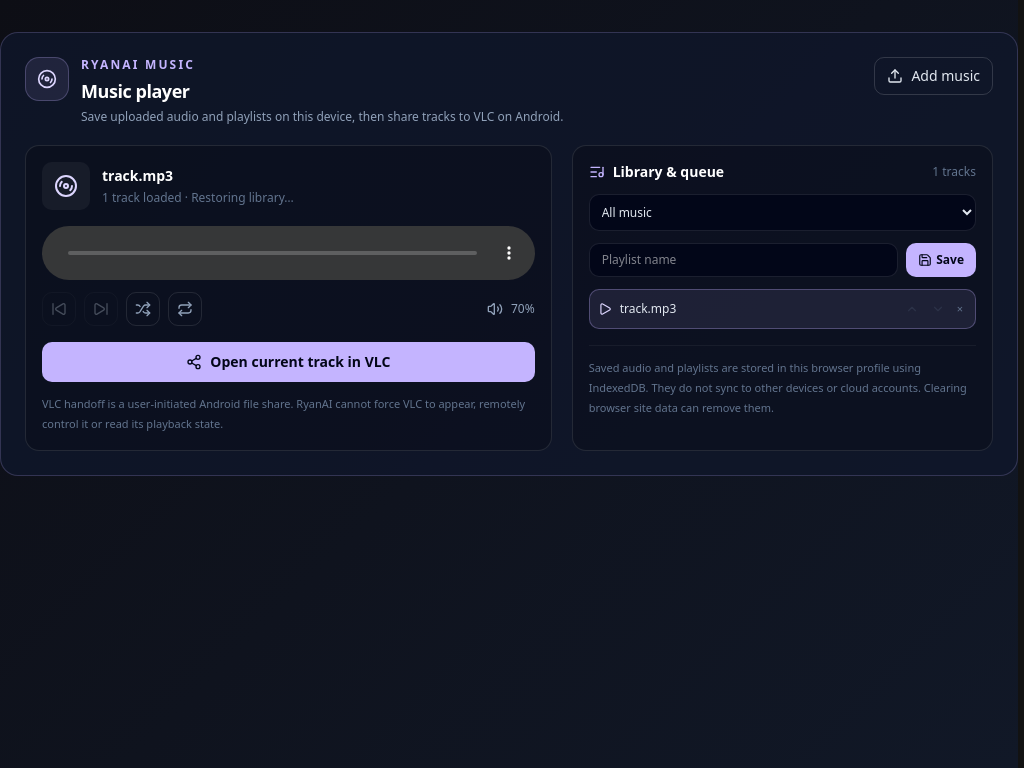
Scenario: Dashboard music player › shows a clear fallback when browser file sharing is unavailable
Earlier steps of the test are not shown.
Click the button "Open current track in VLC". click: (288, 362)
box: [42,342,535,382]
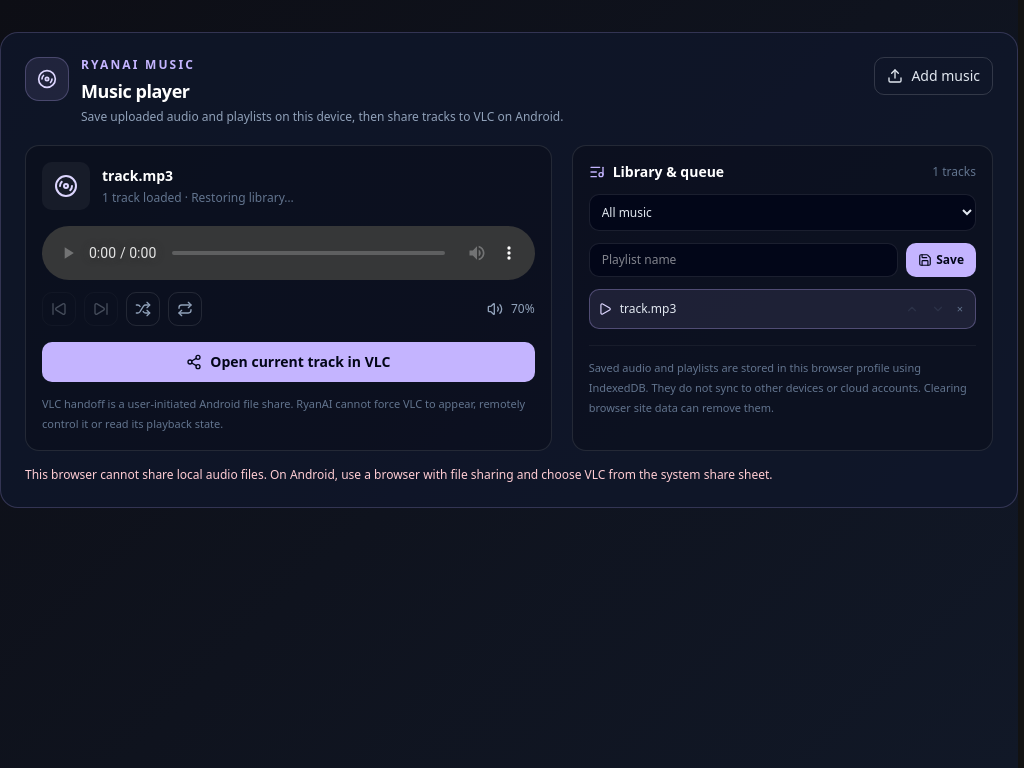
Expected: the text "cannot share local audio files" is shown, [25,466,772,483]
